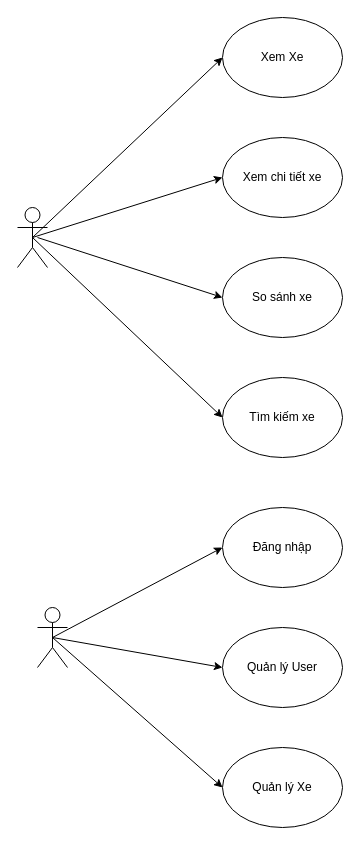
This 360x845 diagram has some shape labels left out. Each missing label, with the centre of its shape:
"Admin" goes at point (52, 637).
"User" goes at point (32, 237).
